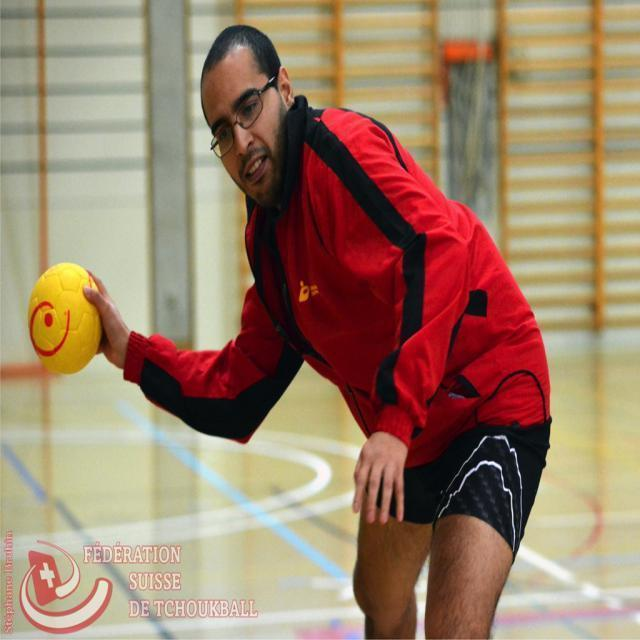ball: (28, 261, 103, 376)
